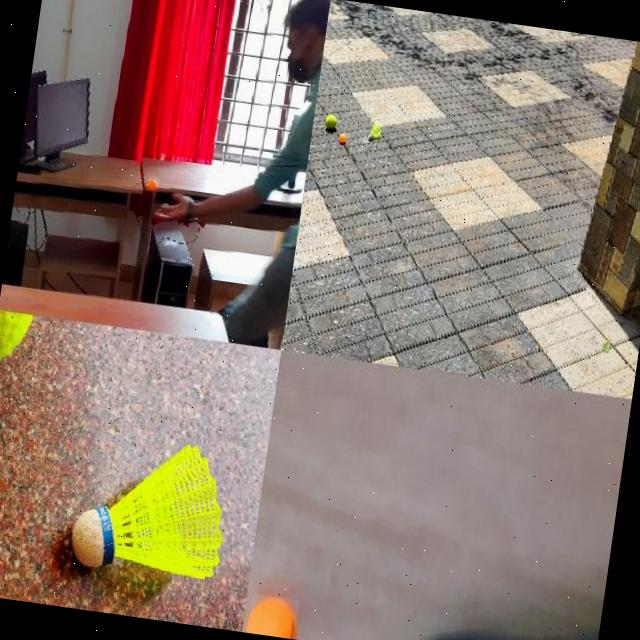ping-pong-ball: (247, 594, 300, 640), (144, 176, 160, 198), (339, 132, 350, 144)
